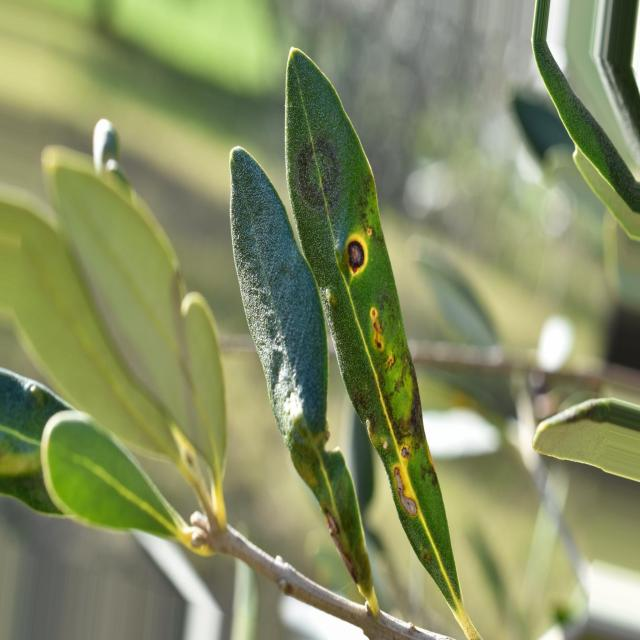Peacock Eye: (234, 46, 483, 640)
